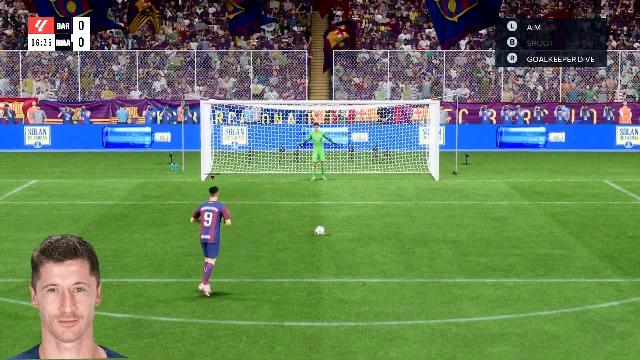bottom-left: (204, 148, 282, 180)
bottom-right: (355, 148, 435, 180)
center-down: (284, 148, 354, 180)
center-up: (284, 104, 352, 146)
football: (313, 226, 327, 234)
goalkeeper: (295, 121, 343, 181)
player: (188, 188, 242, 300)
top-left: (204, 104, 282, 146)
top-right: (354, 104, 434, 146)
